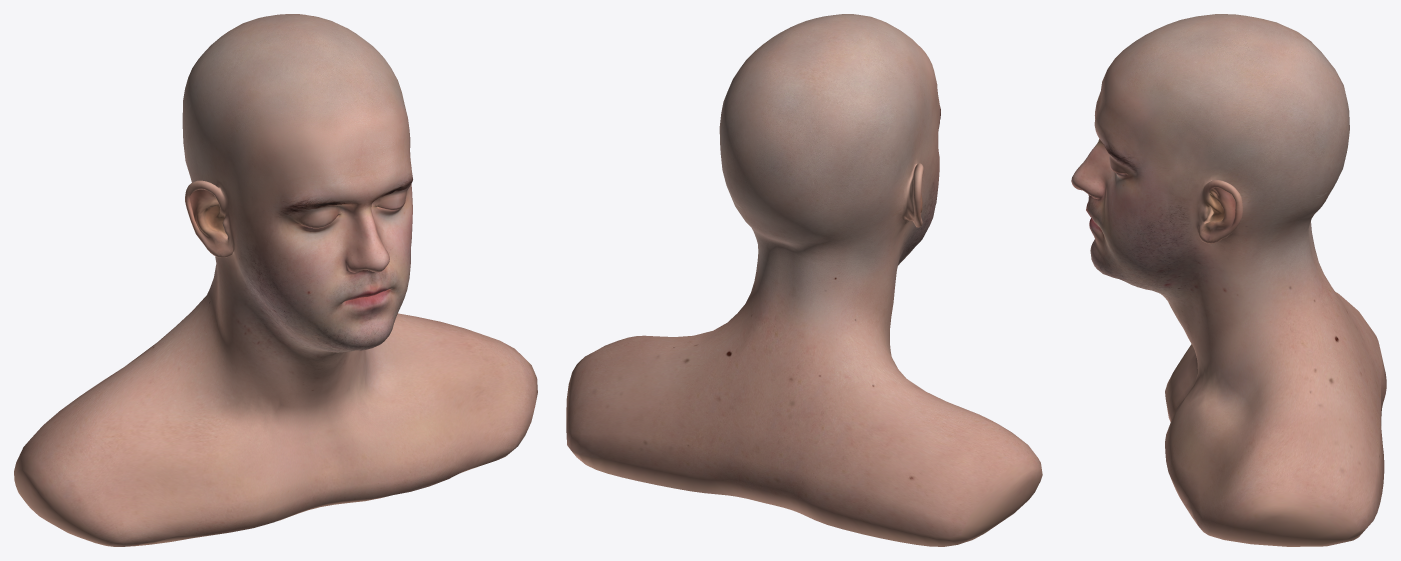
Rendered from head.dae.
3 views of the same model, side by side, from view 1: azimuth 30°, elevation 25°; view 2: azimuth 150°, elevation 25°; view 3: azimuth 270°, elevation 25° (orthographic). The views are drawn at different scales.
Parts seen in each view (by area): view 1: Group39; view 2: Group39; view 3: Group39.
Boxes of the visible parts, <box> form: Group39: <box>14,14,537,546</box>; Group39: <box>566,14,1042,546</box>; Group39: <box>1071,14,1386,546</box>.
Bounding box in the file's own units: 3.08 × 1.87 × 2.86.
